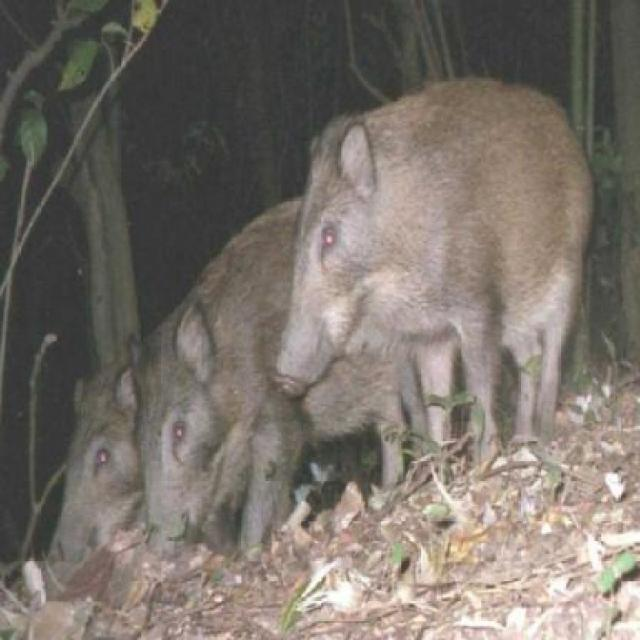pig: (258, 52, 638, 485), (59, 240, 476, 568), (0, 301, 165, 587)
